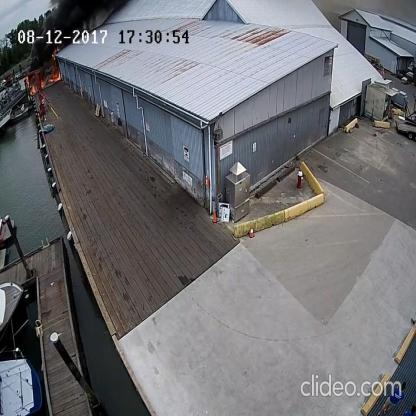fire: (25, 76, 38, 95), (46, 68, 62, 83), (41, 78, 45, 90), (52, 54, 55, 60)
